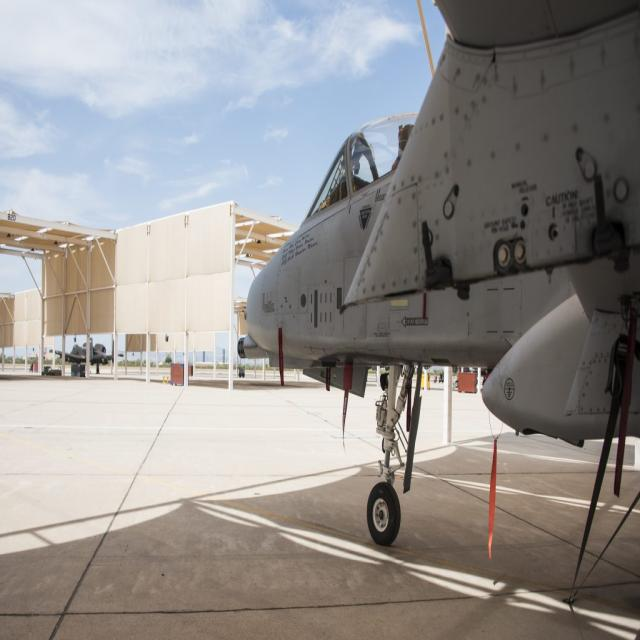MIL_Plane: (237, 0, 640, 546), (49, 337, 124, 374)
